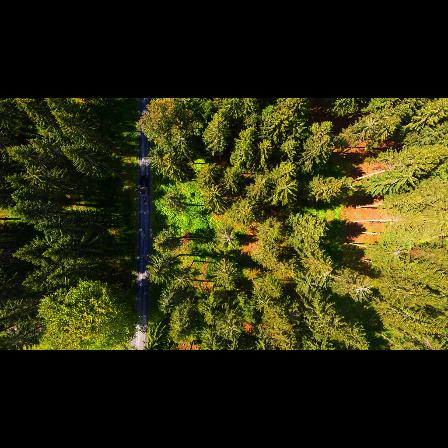Sick: (212, 224, 243, 253), (346, 277, 378, 304), (214, 317, 244, 344), (169, 270, 193, 291)
